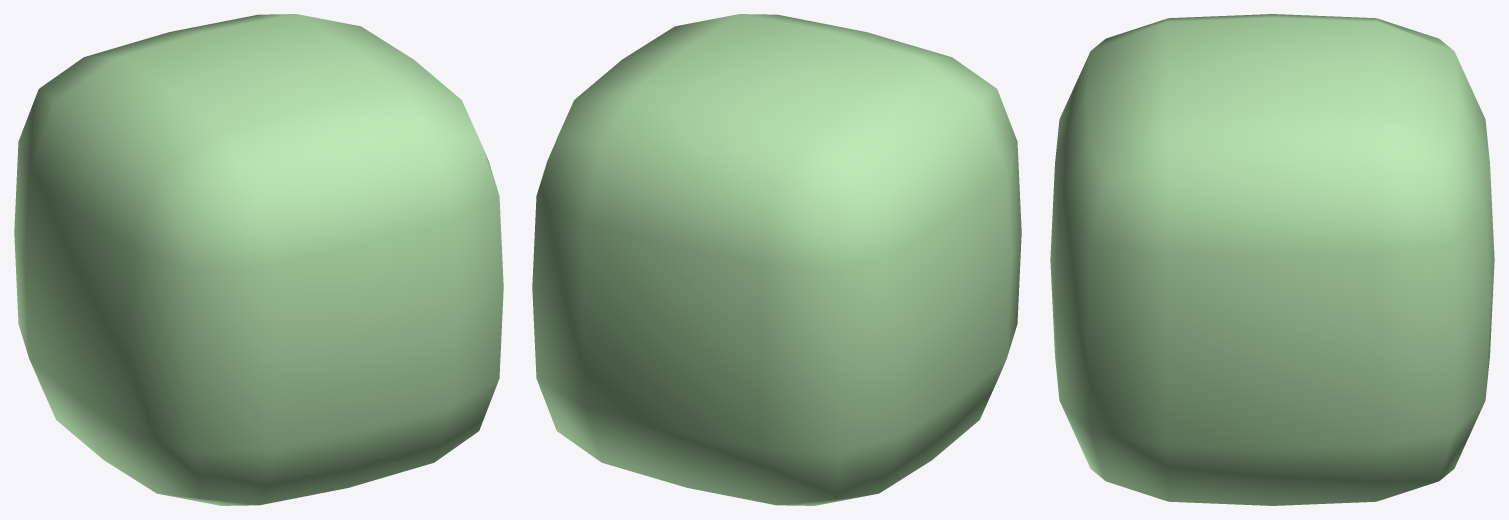
File: GrapeBait.fbx
The picture shows the model from 3 angles, left to right: view 1: azimuth 30°, elevation 25°; view 2: azimuth 150°, elevation 25°; view 3: azimuth 270°, elevation 25°; orthographic projection. The views are drawn at different scales.
Visible parts, largest first — view 1: grapeBait; view 2: grapeBait; view 3: grapeBait.
Part boxes in pixels (<box>): grapeBait: <box>14,14,503,505</box>; grapeBait: <box>532,14,1021,505</box>; grapeBait: <box>1050,14,1494,505</box>.
Bounding box in the file's own units: 0.1203 × 0.1203 × 0.1203.
